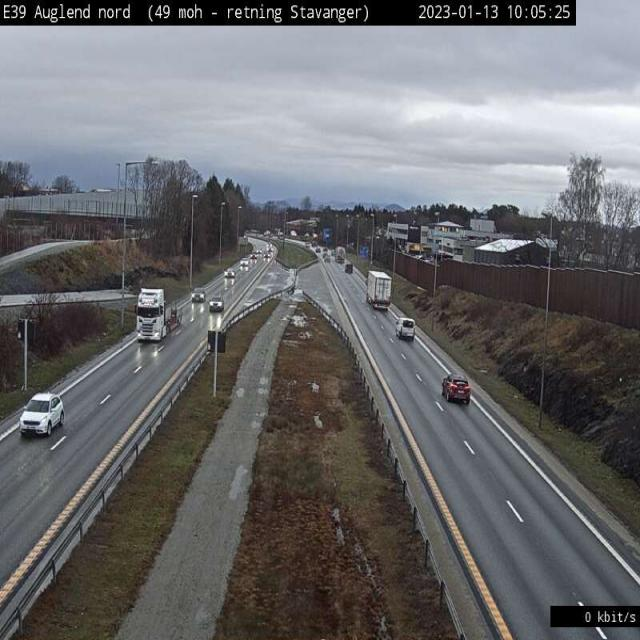car: (20, 393, 65, 437), (136, 287, 166, 343), (442, 374, 472, 404), (396, 317, 415, 340)
